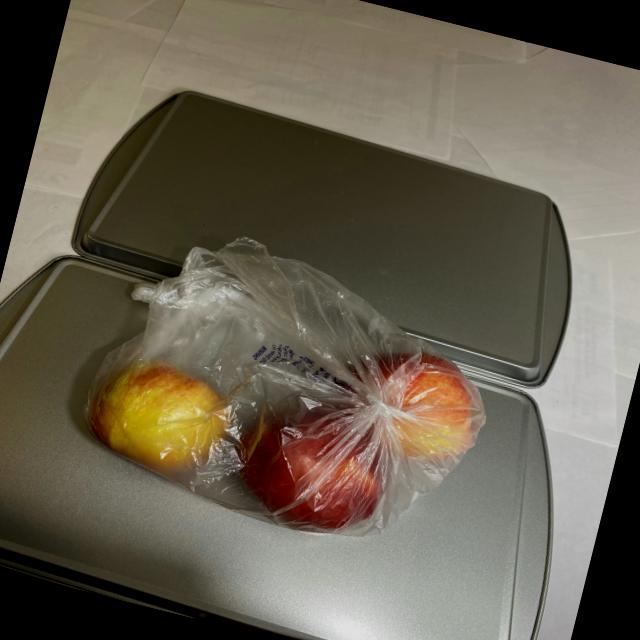apple: (65, 270, 506, 566)
